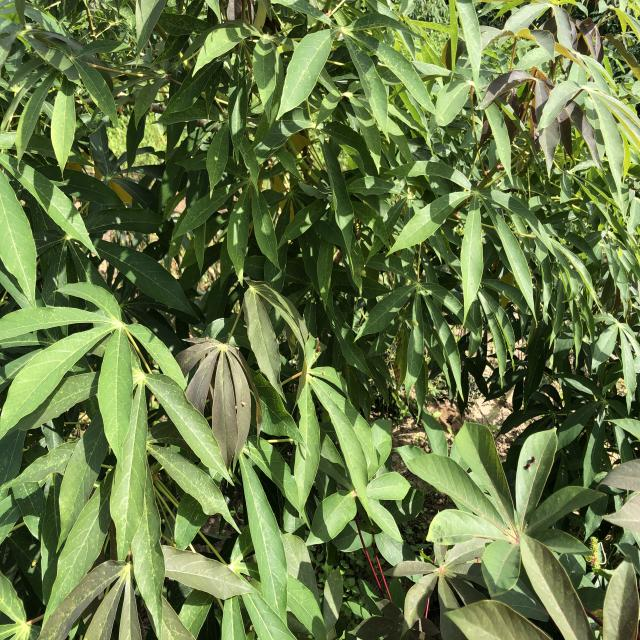Mosca: (519, 453, 540, 474), (309, 332, 323, 354), (235, 396, 251, 412), (434, 533, 447, 547)
